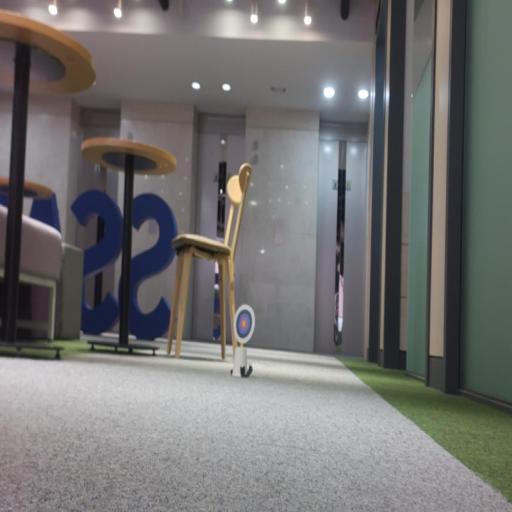target: (233, 304, 254, 345)
